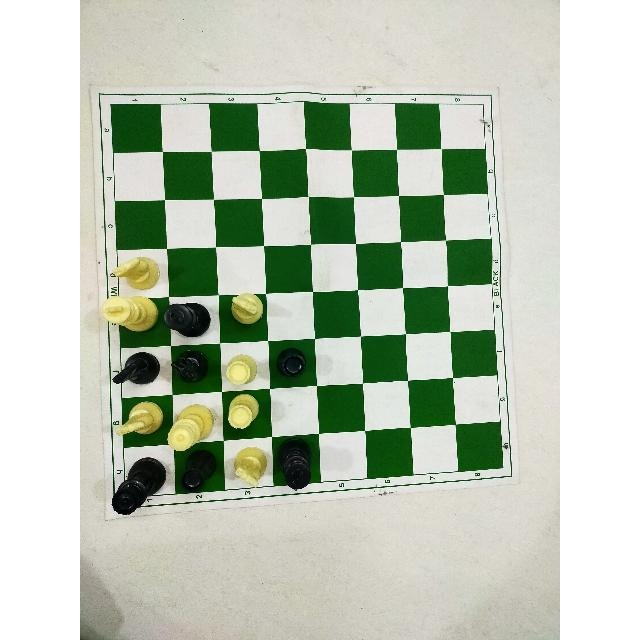black-king: (274, 436, 314, 496), (160, 300, 213, 338)
black-knight: (110, 346, 162, 392), (167, 346, 214, 385)
black-queen: (107, 452, 168, 524)
black-rook: (177, 444, 225, 492), (272, 340, 312, 384)
white-king: (99, 292, 161, 336)
white-knight: (112, 398, 170, 444), (113, 250, 162, 290), (229, 444, 269, 493), (228, 284, 266, 329)
white-queen: (165, 400, 214, 455)
white-rook: (222, 391, 266, 437), (223, 350, 259, 389)
